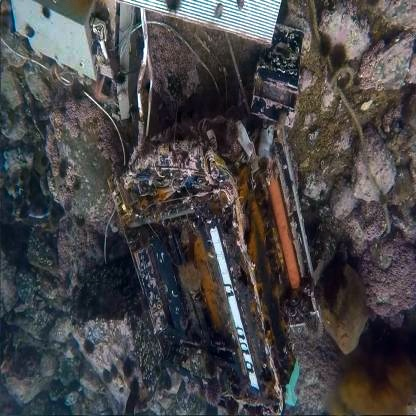electronics: (122, 91, 330, 416)
